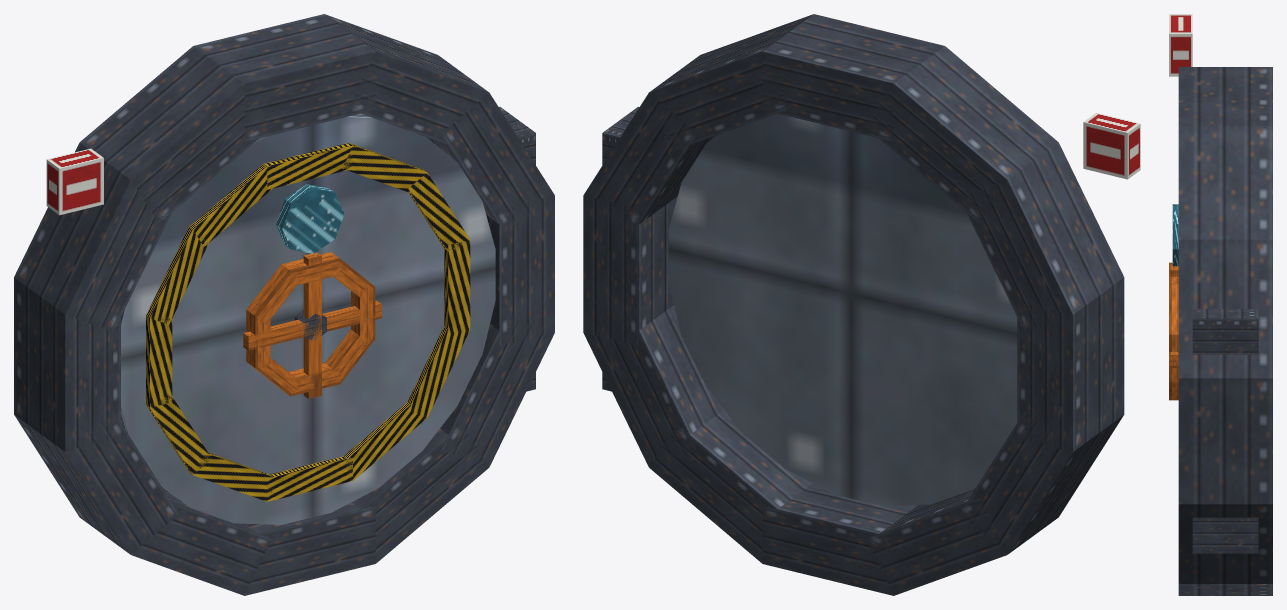
The model's file is airlock_hatch_round.obj.
3 views of the same model, side by side, from view 1: azimuth 30°, elevation 25°; view 2: azimuth 150°, elevation 25°; view 3: azimuth 270°, elevation 25° (orthographic). The views are drawn at different scales.
Visible parts, largest first — view 1: airlock_hatch_round; view 2: airlock_hatch_round; view 3: airlock_hatch_round.
Boxes of the visible parts, box(x1,y1,x2,y2) form: airlock_hatch_round: box(14, 14, 554, 595); airlock_hatch_round: box(583, 14, 1140, 595); airlock_hatch_round: box(1169, 14, 1272, 595).
Bounding box in the file's own units: 2.25 × 2.2 × 0.44.
1 material, 1 textured.
